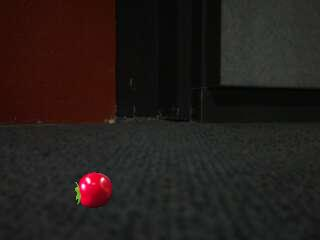Tomato: (74, 170, 114, 210)
